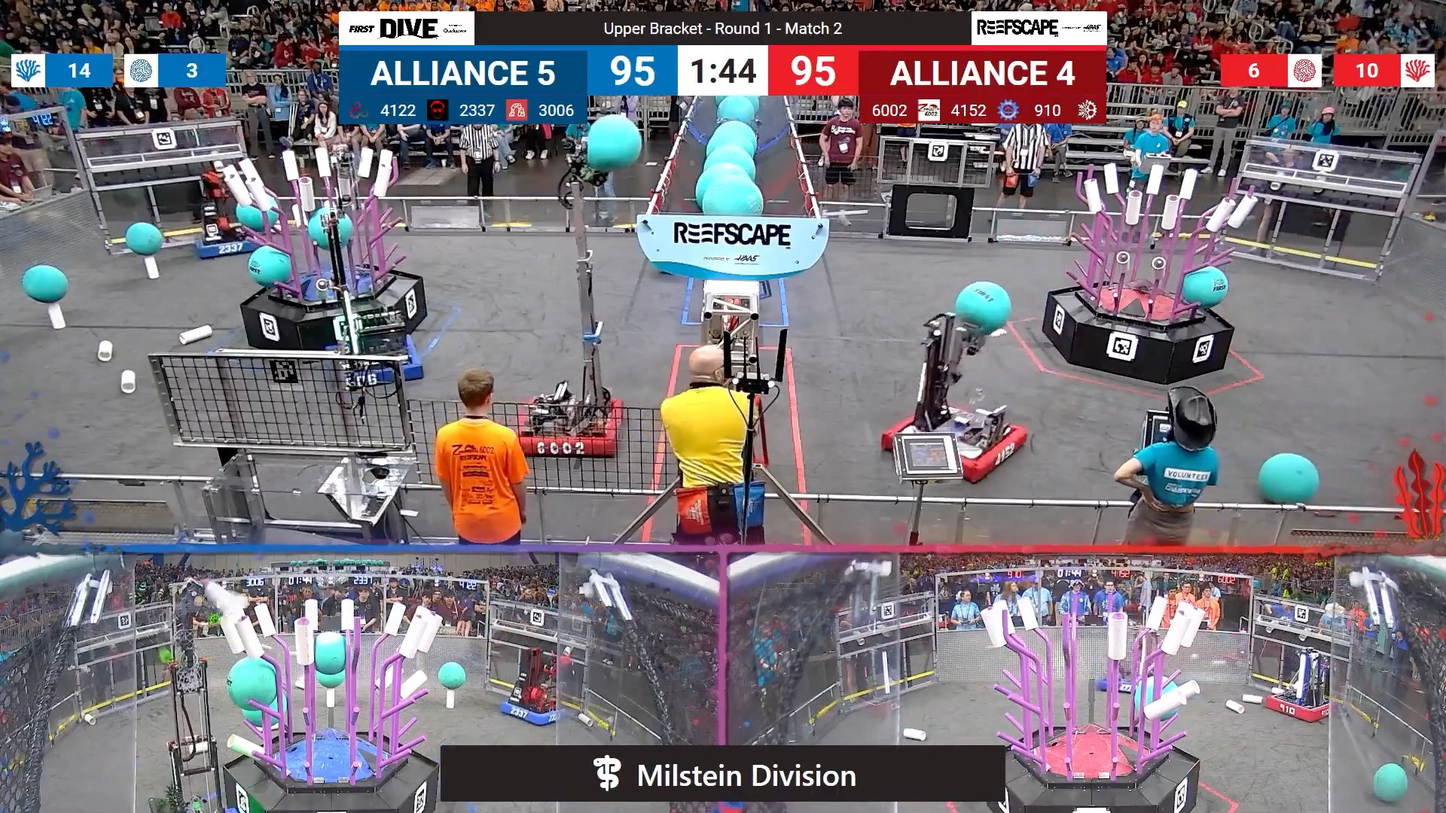bumpers: (875, 410, 1034, 482), (509, 394, 630, 461), (320, 336, 427, 387), (186, 221, 277, 263), (1258, 691, 1341, 723), (494, 696, 570, 729)
